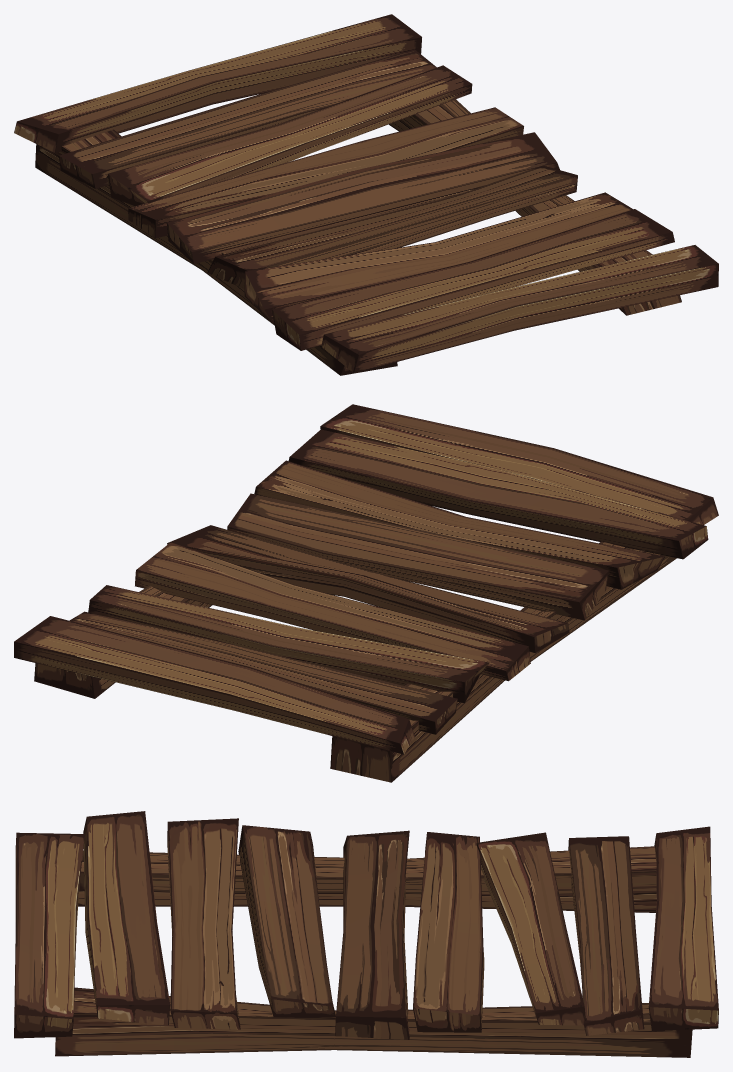
Rendered from SM_PROP_woodbridge_dungeon_09.fbx.
3 renders of one model, top to bottom at view 1: azimuth 30°, elevation 25°; view 2: azimuth 150°, elevation 25°; view 3: azimuth 270°, elevation 25°, orthographic. The views are drawn at different scales.
Visible parts, largest first — view 1: SM_PROP_woodbridge_dungeon_09; view 2: SM_PROP_woodbridge_dungeon_09; view 3: SM_PROP_woodbridge_dungeon_09.
Part boxes in pixels (bbox=[...]): SM_PROP_woodbridge_dungeon_09: bbox=[14, 14, 718, 375]; SM_PROP_woodbridge_dungeon_09: bbox=[14, 404, 718, 782]; SM_PROP_woodbridge_dungeon_09: bbox=[14, 811, 718, 1057].
Bounding box in the file's own units: 276 × 45.12 × 405.
